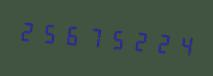five: (105, 19, 126, 57), (39, 14, 60, 51)
four: (171, 25, 192, 63)
seven: (83, 18, 104, 55)
six: (61, 16, 82, 53)
two: (127, 21, 148, 59), (149, 23, 170, 61), (17, 12, 38, 49)
